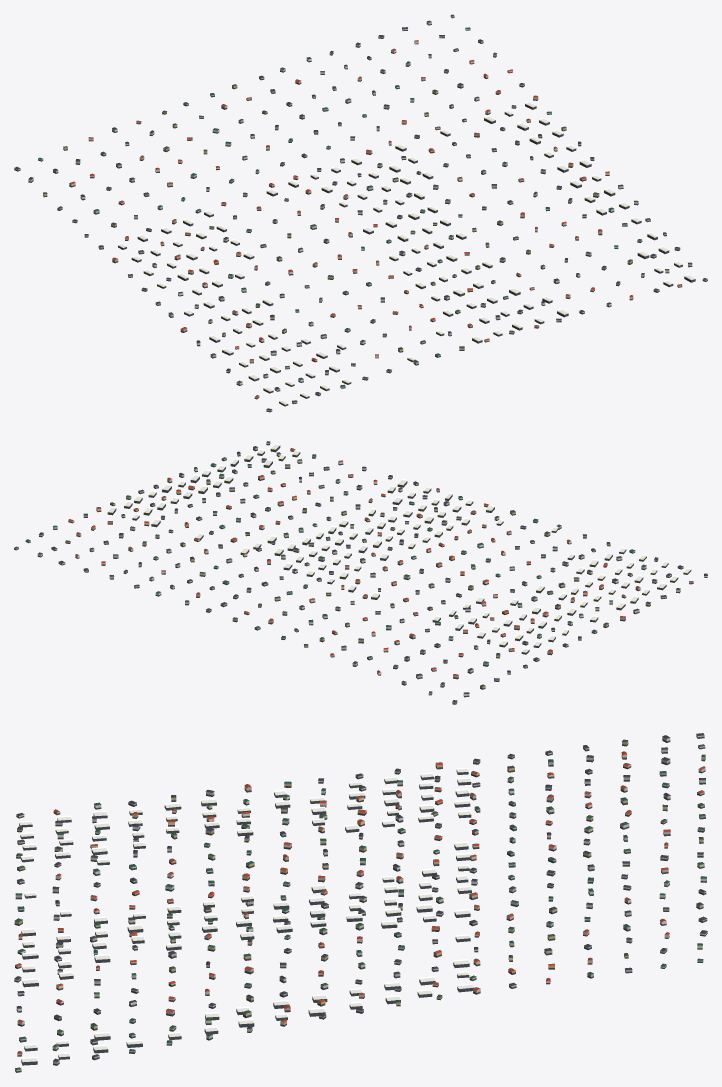
File: buildings_T_W01_N05.glb
3 renders of one model, top to bottom at view 1: azimuth 30°, elevation 25°; view 2: azimuth 150°, elevation 25°; view 3: azimuth 270°, elevation 25°, orthographic. The views are drawn at different scales.
Parts seen in each view (by area): view 1: T_W01_N05_slope_seating_foundations, T_W01_N05_roofs_agri_greenhouse_arch, T_W01_N05_roofs_roof_slate_French_villa_hip, T_W01_N05_roofs_roof_pine_green_hip, T_W01_N05_walls_wall_pastel_sand_gray, T_W01_N05_walls_wall_dalat_cream_stucco, T_W01_N05_roofs_roof_terracotta_gable, T_W01_N05_walls_wall_french_ochre_villa, T_W01_N05_walls_wall_modern_warm_white; view 2: T_W01_N05_slope_seating_foundations, T_W01_N05_roofs_agri_greenhouse_arch, T_W01_N05_roofs_roof_slate_French_villa_hip, T_W01_N05_roofs_roof_pine_green_hip, T_W01_N05_walls_wall_pastel_sand_gray, T_W01_N05_walls_wall_dalat_cream_stucco, T_W01_N05_roofs_roof_terracotta_gable, T_W01_N05_walls_wall_french_ochre_villa, T_W01_N05_walls_wall_modern_warm_white; view 3: T_W01_N05_slope_seating_foundations, T_W01_N05_roofs_agri_greenhouse_arch, T_W01_N05_roofs_roof_slate_French_villa_hip, T_W01_N05_roofs_roof_pine_green_hip, T_W01_N05_walls_wall_pastel_sand_gray, T_W01_N05_roofs_roof_terracotta_gable, T_W01_N05_walls_wall_dalat_cream_stucco, T_W01_N05_walls_wall_french_ochre_villa, T_W01_N05_walls_wall_modern_warm_white.
Part boxes in pixels (left/top/right/bottom): T_W01_N05_slope_seating_foundations: left=14, top=16, right=707, bottom=412; T_W01_N05_roofs_agri_greenhouse_arch: left=118, top=101, right=695, bottom=404; T_W01_N05_roofs_roof_slate_French_villa_hip: left=14, top=27, right=692, bottom=410; T_W01_N05_roofs_roof_pine_green_hip: left=38, top=14, right=707, bottom=386; T_W01_N05_walls_wall_pastel_sand_gray: left=53, top=15, right=692, bottom=398; T_W01_N05_walls_wall_dalat_cream_stucco: left=69, top=21, right=707, bottom=374; T_W01_N05_roofs_roof_terracotta_gable: left=70, top=40, right=681, bottom=397; T_W01_N05_walls_wall_french_ochre_villa: left=43, top=36, right=632, bottom=402; T_W01_N05_walls_wall_modern_warm_white: left=14, top=29, right=638, bottom=411; T_W01_N05_slope_seating_foundations: left=14, top=443, right=707, bottom=704; T_W01_N05_roofs_agri_greenhouse_arch: left=107, top=443, right=691, bottom=652; T_W01_N05_roofs_roof_slate_French_villa_hip: left=39, top=446, right=707, bottom=702; T_W01_N05_roofs_roof_pine_green_hip: left=14, top=441, right=680, bottom=693; T_W01_N05_walls_wall_pastel_sand_gray: left=14, top=447, right=693, bottom=686; T_W01_N05_walls_wall_dalat_cream_stucco: left=25, top=442, right=639, bottom=677; T_W01_N05_roofs_roof_terracotta_gable: left=68, top=448, right=693, bottom=675; T_W01_N05_walls_wall_french_ochre_villa: left=65, top=465, right=683, bottom=688; T_W01_N05_walls_wall_modern_warm_white: left=39, top=461, right=707, bottom=703; T_W01_N05_slope_seating_foundations: left=14, top=735, right=707, bottom=1072; T_W01_N05_roofs_agri_greenhouse_arch: left=19, top=767, right=473, bottom=1062; T_W01_N05_roofs_roof_slate_French_villa_hip: left=14, top=733, right=707, bottom=1061; T_W01_N05_roofs_roof_pine_green_hip: left=14, top=739, right=706, bottom=1069; T_W01_N05_walls_wall_pastel_sand_gray: left=15, top=746, right=706, bottom=1064; T_W01_N05_roofs_roof_terracotta_gable: left=15, top=751, right=705, bottom=1053; T_W01_N05_walls_wall_dalat_cream_stucco: left=14, top=752, right=704, bottom=1071; T_W01_N05_walls_wall_french_ochre_villa: left=14, top=741, right=707, bottom=1028; T_W01_N05_walls_wall_modern_warm_white: left=16, top=734, right=707, bottom=1038.
Size of the model in its own units: 1686 by 389 by 1685.
